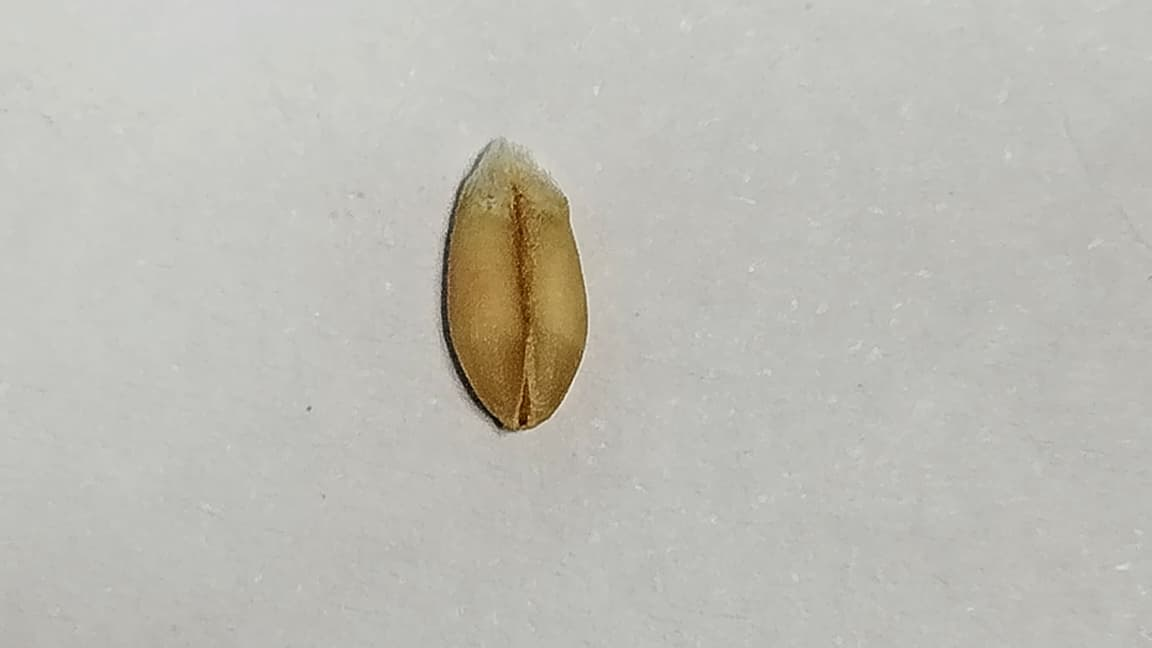healthy: (444, 137, 586, 430)
